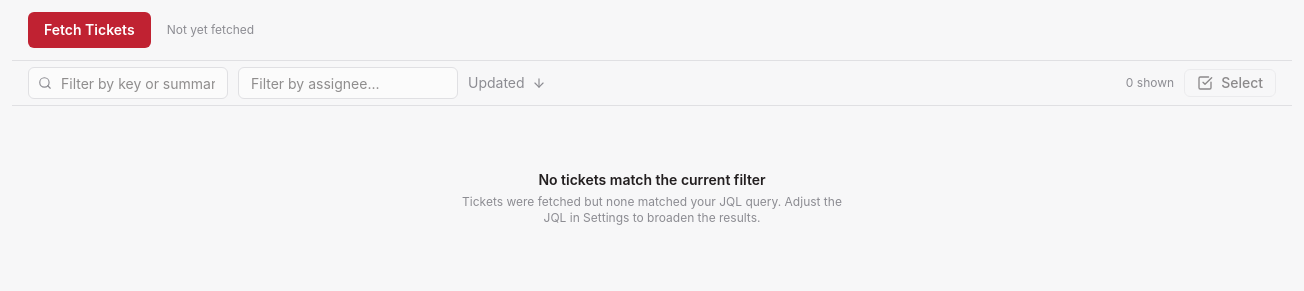
Test: TicketListPage — pagination truncation warning › clears the warning when the next fetch reports truncated=false
The width and height of the screenshot is (1304, 291).
Click the button titled "Refresh (F5)": (89, 30) top-left (28, 12), bottom-right (151, 48)
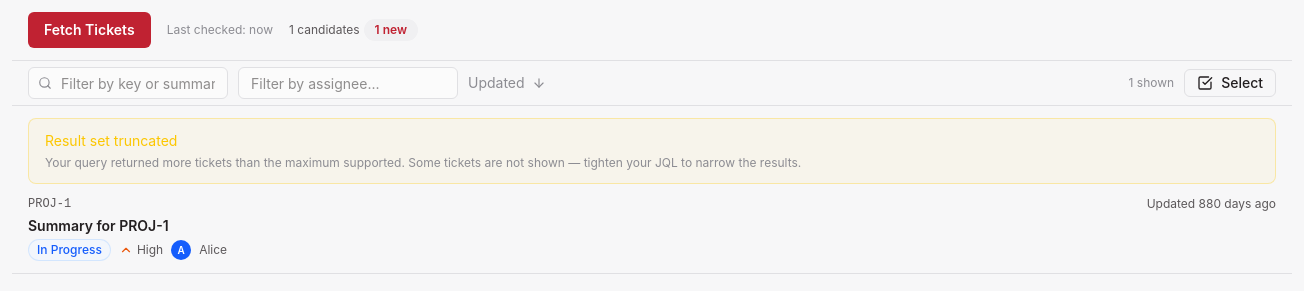
Expected: the message with test id "truncation-warning" is shown, top-left (28, 118), bottom-right (1276, 184)
Click the button titled "Refresh (F5)": (89, 30) top-left (28, 12), bottom-right (151, 48)
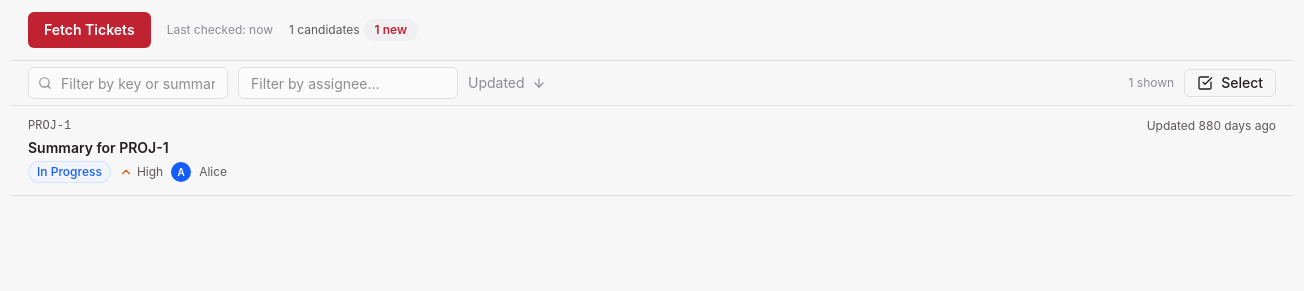
Expected: the message with test id "truncation-warning" is gone
